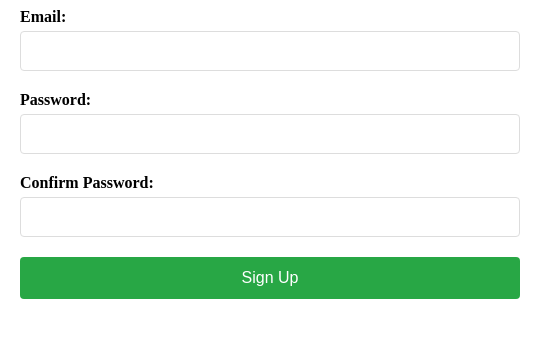
Test: Form Component › Form Validation - Confirm Password › should show error when passwords do not match
The width and height of the screenshot is (541, 337).
Type "test@example.com" into the field with test id "email-input" at (270, 51), box x1=20 y1=31 x2=520 y2=71
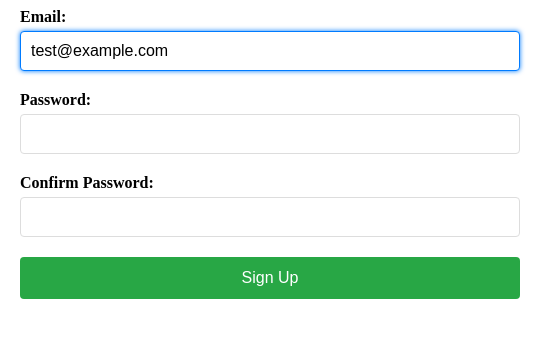
Type "password123" into the password field with test id "password-input" at (270, 134), box x1=20 y1=114 x2=520 y2=154
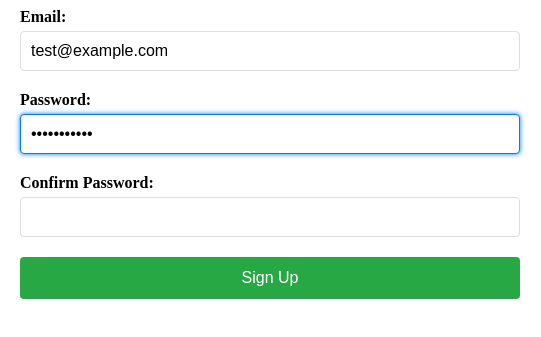
Type "differentpass" into the password field with test id "confirm-password-input" at (270, 217), box x1=20 y1=197 x2=520 y2=237
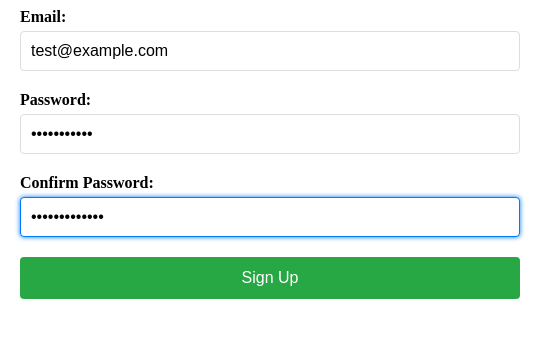
Click the button with test id "submit-button" at (270, 278), box x1=20 y1=257 x2=520 y2=299
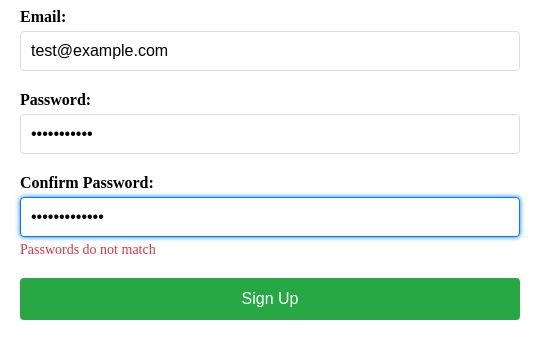
Now the text with test id "confirm-password-error" reads "Passwords do not match", box x1=20 y1=242 x2=156 y2=257
